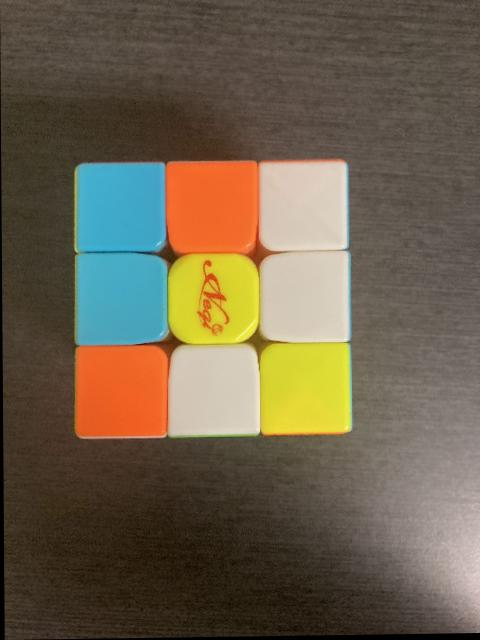Blue: (76, 254, 165, 346), (76, 162, 166, 252)
Orange: (77, 351, 164, 441), (169, 163, 255, 251)
White: (258, 253, 347, 344), (169, 347, 258, 435), (260, 165, 348, 250)
Yellow: (170, 258, 258, 344), (263, 346, 348, 432)
